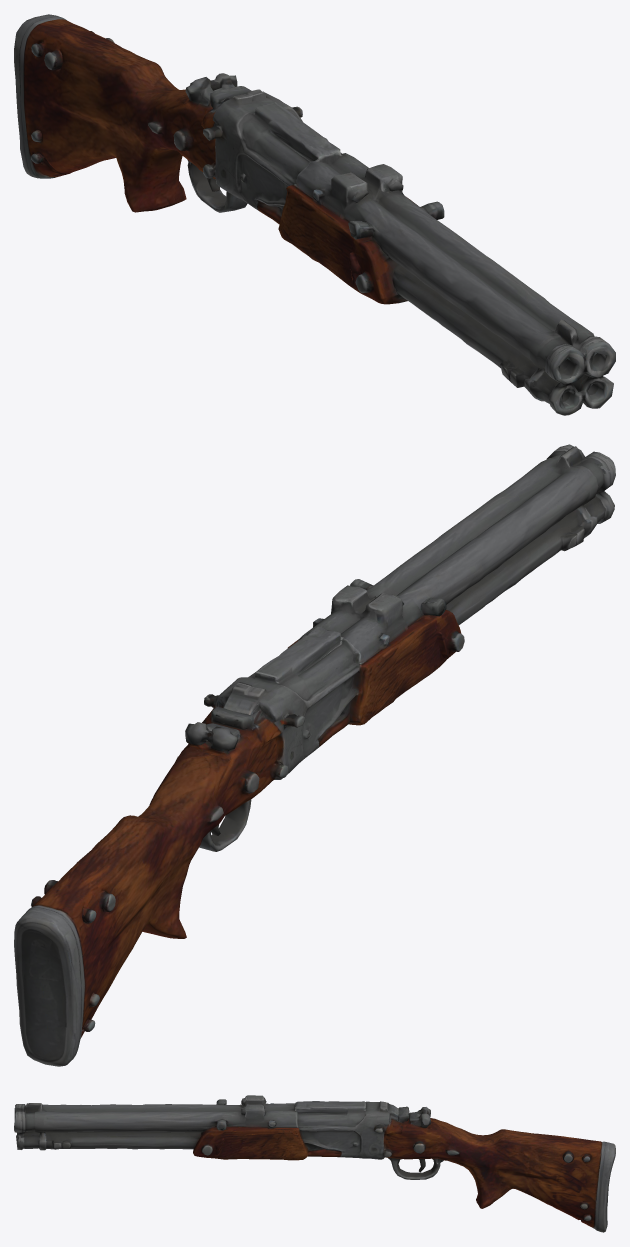
The model's file is shotgun.glb.
3 renders of one model, top to bottom at view 1: azimuth 30°, elevation 25°; view 2: azimuth 150°, elevation 25°; view 3: azimuth 270°, elevation 25°, orthographic. The views are drawn at different scales.
Visible parts, largest first — view 1: tripo_node_c339d04f-ad8e-439e-b76f-6f0e113bdb32; view 2: tripo_node_c339d04f-ad8e-439e-b76f-6f0e113bdb32; view 3: tripo_node_c339d04f-ad8e-439e-b76f-6f0e113bdb32.
Boxes of the visible parts, x1,y1,x2,y2 form: tripo_node_c339d04f-ad8e-439e-b76f-6f0e113bdb32: (14, 14, 615, 415); tripo_node_c339d04f-ad8e-439e-b76f-6f0e113bdb32: (14, 444, 615, 1066); tripo_node_c339d04f-ad8e-439e-b76f-6f0e113bdb32: (14, 1095, 615, 1232).
Size of the model in its own units: 0.4222 by 0.95 by 4.04.
Materials: 1 (1 with a texture image).
